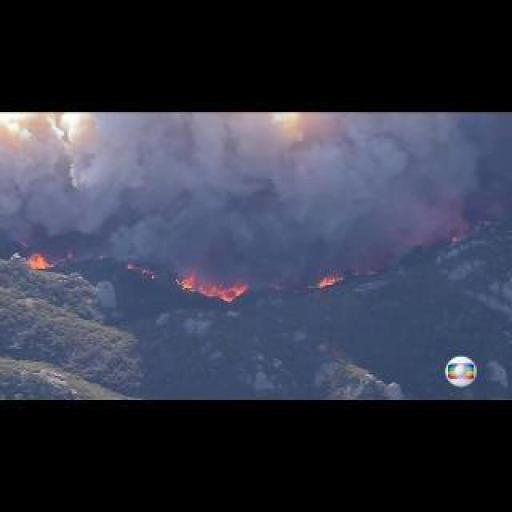smoke: (174, 277, 252, 301), (126, 264, 156, 278), (28, 252, 46, 270), (317, 277, 344, 286)
